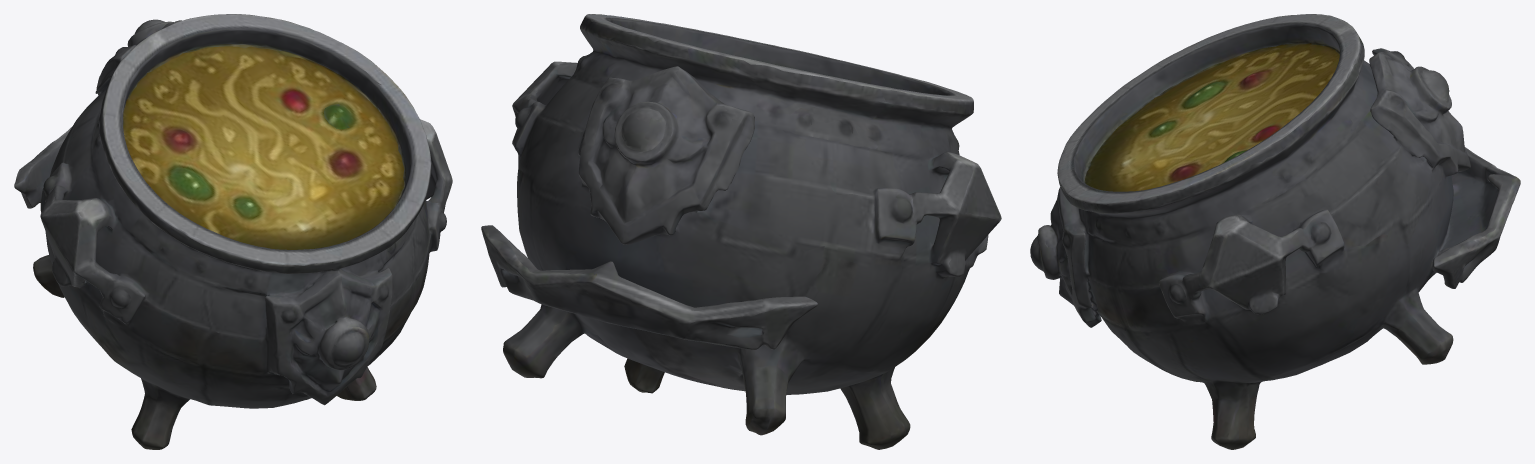
The model's file is agatha_souppot.glb.
The picture shows the model from 3 angles, left to right: view 1: azimuth 30°, elevation 25°; view 2: azimuth 150°, elevation 25°; view 3: azimuth 270°, elevation 25°; orthographic projection. The views are drawn at different scales.
Bounding box in the file's own units: 0.8501 × 0.7695 × 0.9616.
Materials: 1 (1 with a texture image).
